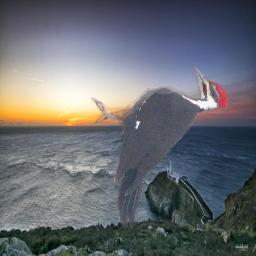Woodpecker: (90, 66, 231, 229)
